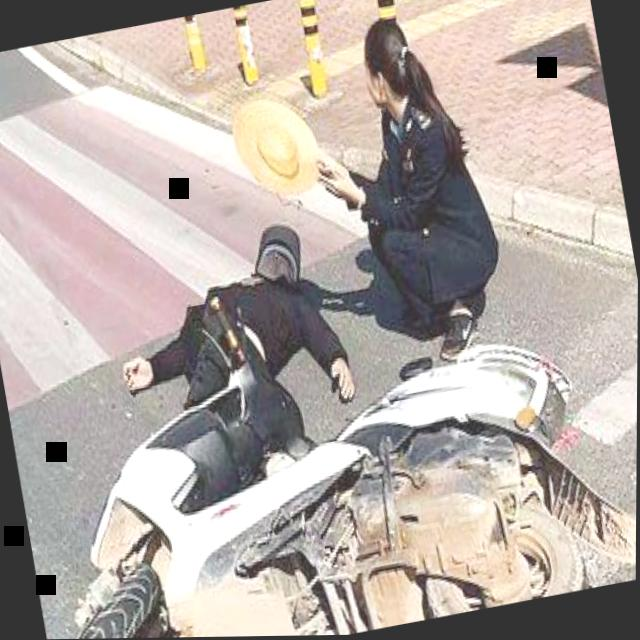Fall-Detected: (66, 176, 388, 537)
